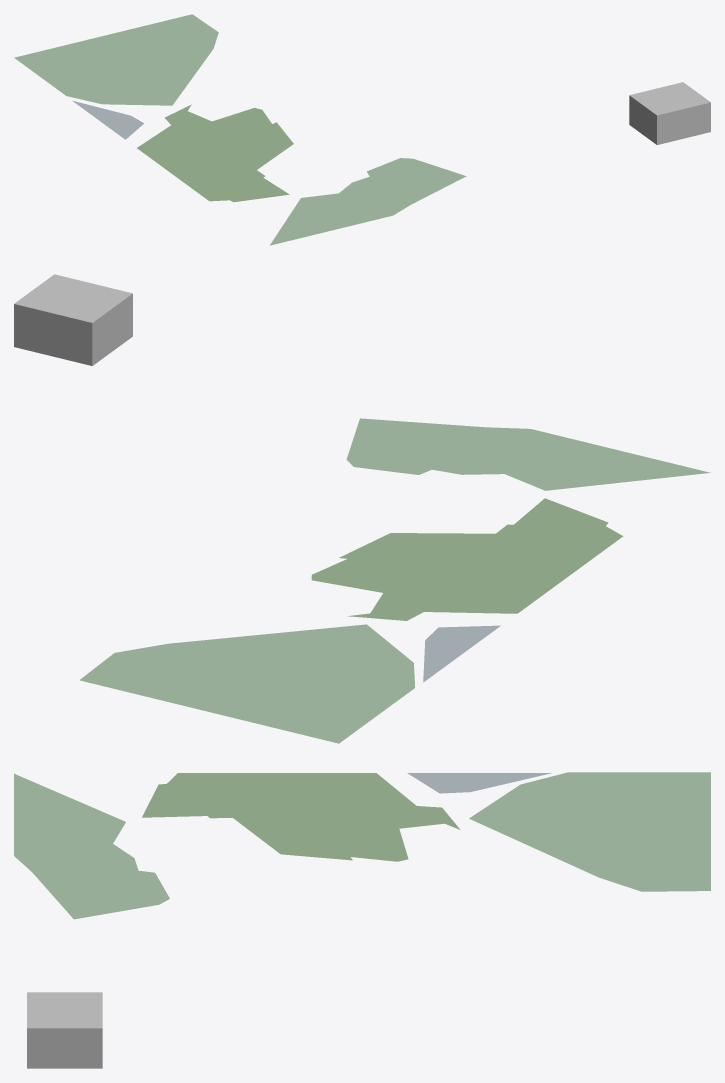
File: 130_76_mid.glb
3 views of the same model, one above another, from view 1: azimuth 30°, elevation 25°; view 2: azimuth 150°, elevation 25°; view 3: azimuth 270°, elevation 25° (orthographic). The views are drawn at different scales.
Size of the model in its own units: 504 by 33.48 by 500.
